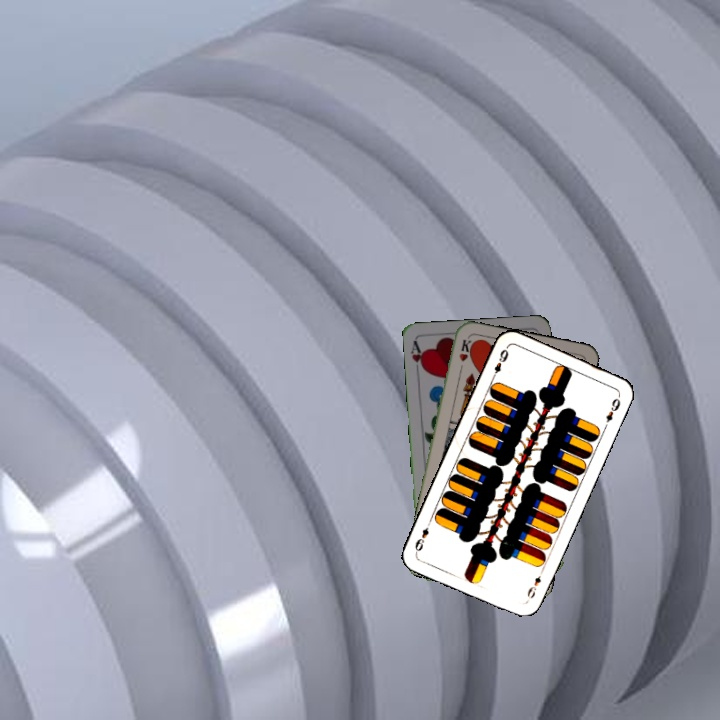E9: (488, 345, 511, 382), (523, 571, 544, 604)
HA: (407, 337, 428, 378)
HK: (455, 335, 474, 375)
